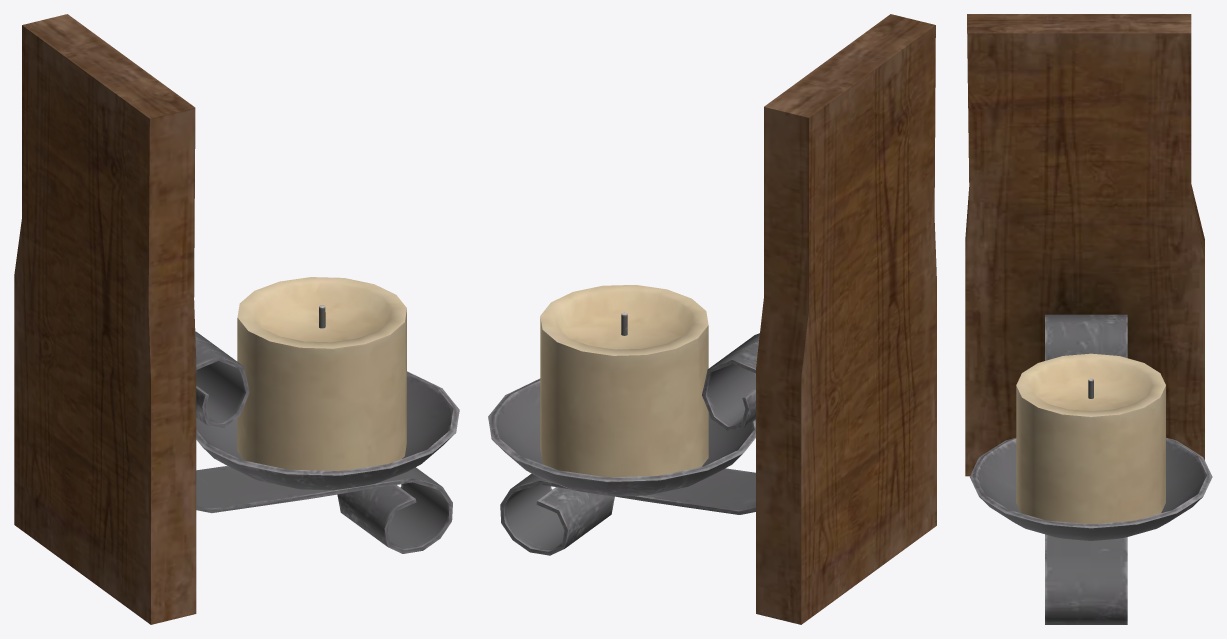
File: sconce3.glb
The picture shows the model from 3 angles, left to right: view 1: azimuth 30°, elevation 25°; view 2: azimuth 150°, elevation 25°; view 3: azimuth 270°, elevation 25°; orthographic projection. The views are drawn at different scales.
Parts seen in each view (by area): view 1: Metal_low_lambert1_0; view 2: Metal_low_lambert1_0; view 3: Metal_low_lambert1_0.
Part boxes in pixels (left/top/right/bottom): Metal_low_lambert1_0: left=14, top=14, right=459, bottom=624; Metal_low_lambert1_0: left=488, top=14, right=936, bottom=624; Metal_low_lambert1_0: left=965, top=14, right=1212, bottom=624.
Size of the model in its own units: 0.3924 by 0.5595 by 0.2641.
1 material, 1 textured.
